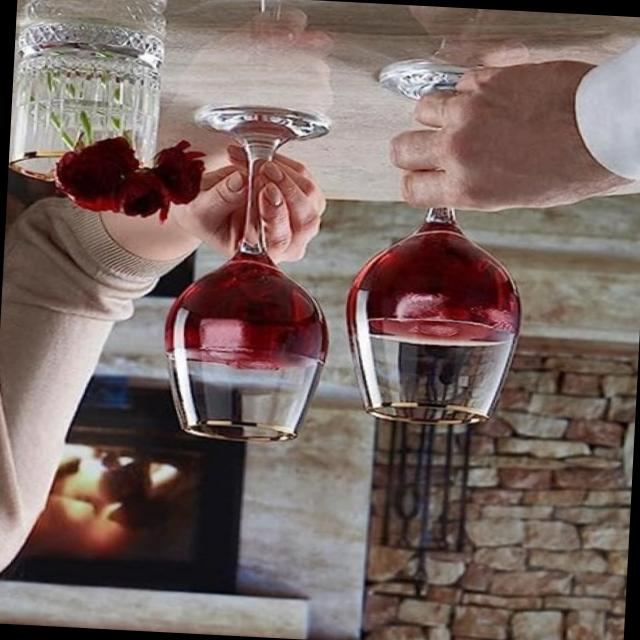glass: (136, 84, 352, 465), (330, 127, 554, 442), (8, 3, 195, 194)
